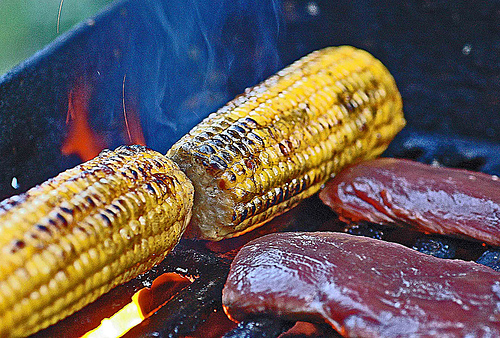corn: (162, 45, 406, 243), (0, 144, 194, 337)
